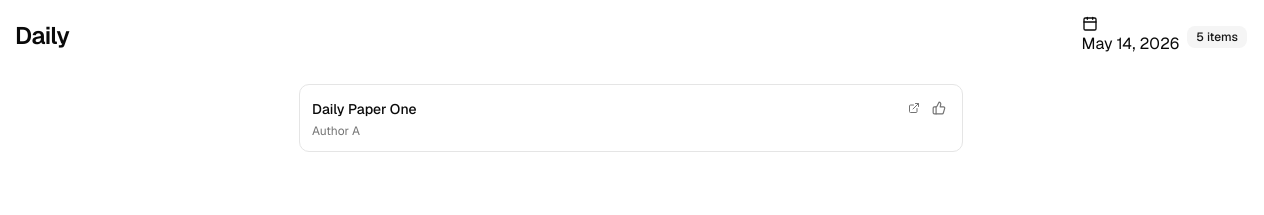
Test: Daily all papers page › shows paper list without collapsible and opens preview on click
Click the button "Daily Paper One".
click(364, 109)  # box [312,99,417,119]
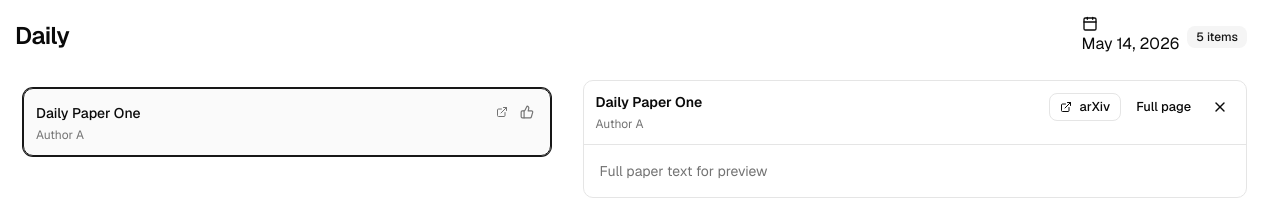
Expected: the text "Full paper text for preview" is shown, [600,162,768,180]
Click the button named "close preview".
click(1220, 107)  # box [1206,93,1234,121]
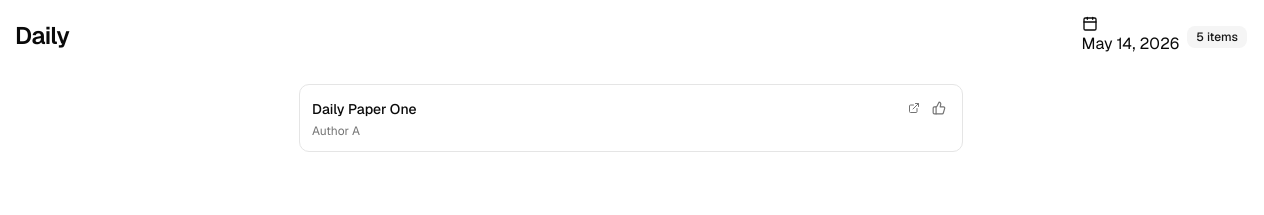
Expected: the text "Full paper text for preview" is gone
